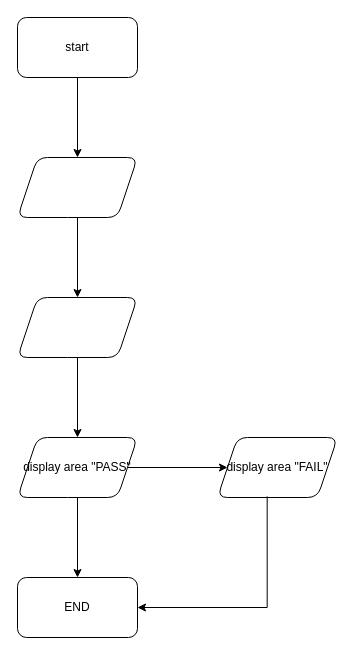
This 355x655 diagram has some shape labels left out. Here are the shapes that lost their labels. From the top down, the centre of each, then its label:
At [77,187]: "input score".
At [77,327]: "is score > 75".
